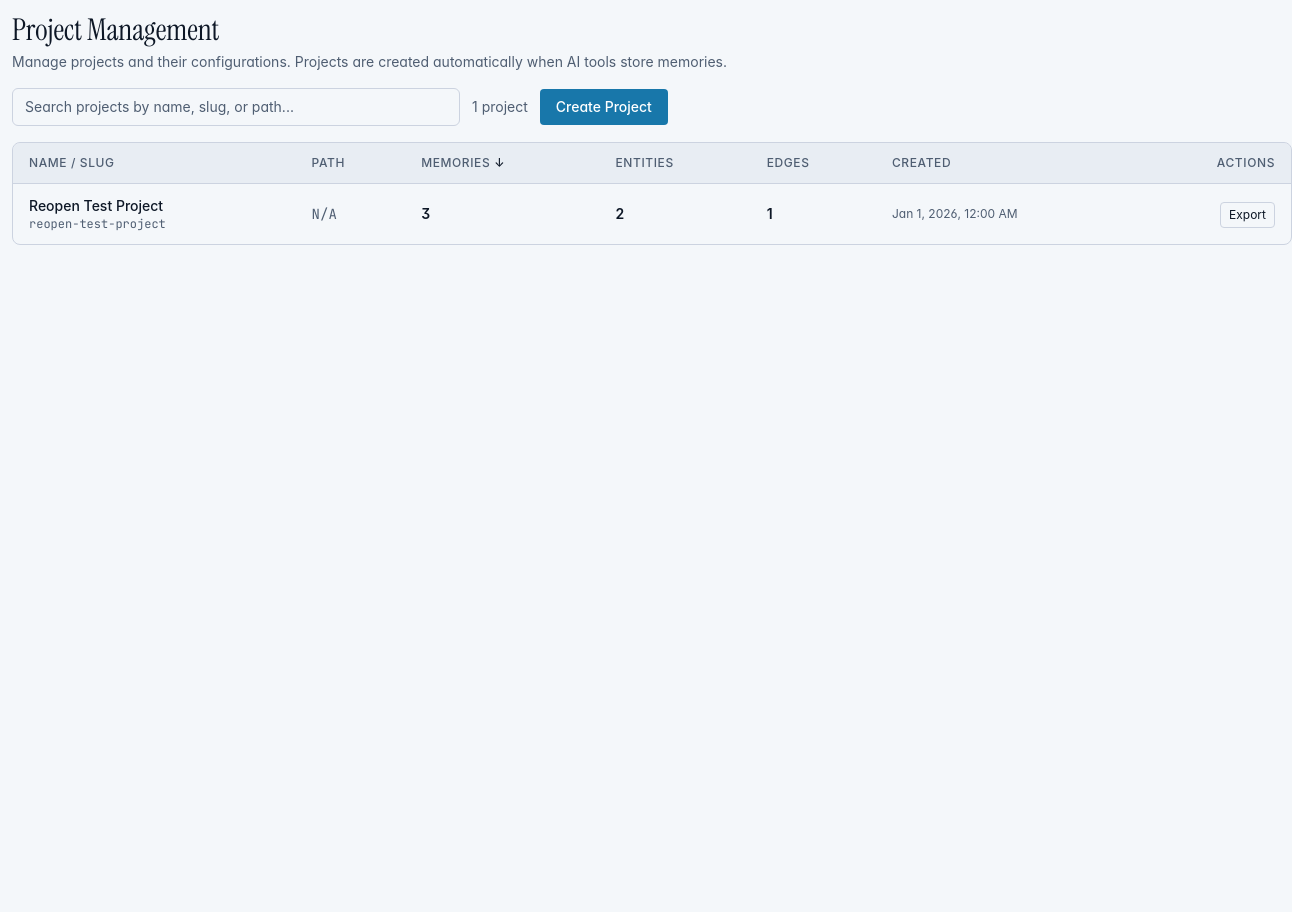
it: ProjectManagement detail panel, cached-at-mount re-open › renders the populated edit form when the project query is already cached at mount
Click the text "Reopen Test Project" at coordinates (96, 206), box [29,197,163,214]
(page scrolled)
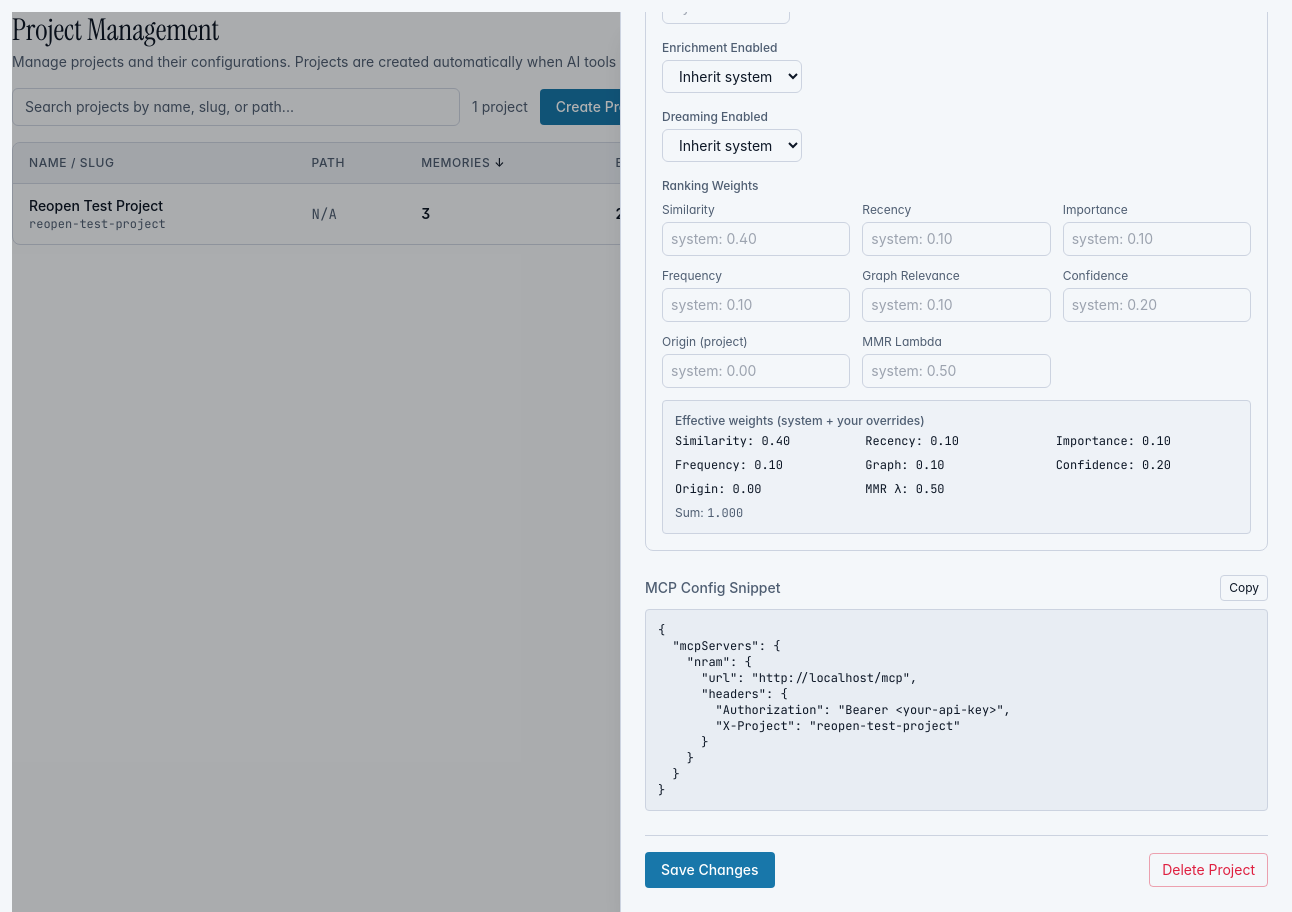
Check: the button "Save Changes" is shown, box [645,852,775,888]
